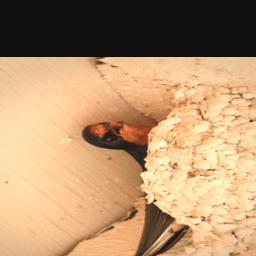Swallow: (63, 119, 216, 256)
